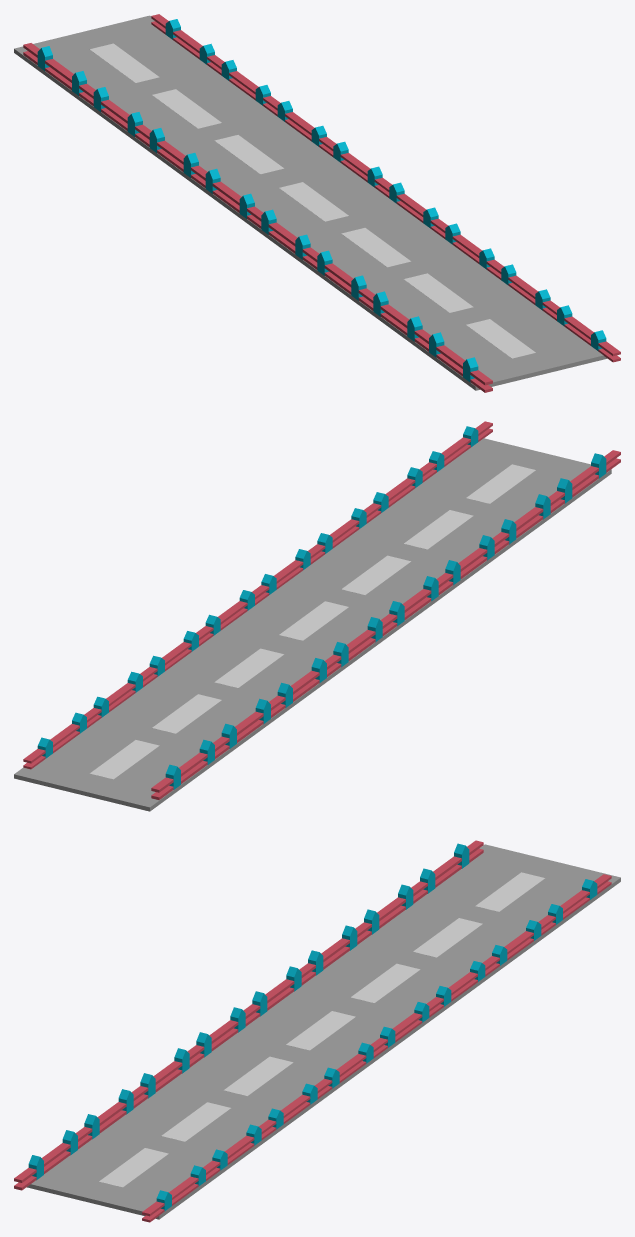
The model's file is Road.glb.
The picture shows the model from 3 angles, top to bottom: view 1: azimuth 30°, elevation 25°; view 2: azimuth 150°, elevation 25°; view 3: azimuth 330°, elevation 25°; orthographic projection.
Parts seen in each view (by area): view 1: Mesh_Mesh_head_geo.001_lambert2SG.001; view 2: Mesh_Mesh_head_geo.001_lambert2SG.001; view 3: Mesh_Mesh_head_geo.001_lambert2SG.001.
Boxes of the visible parts, left/top/right/bottom form: Mesh_Mesh_head_geo.001_lambert2SG.001: left=14, top=14, right=620, bottom=392; Mesh_Mesh_head_geo.001_lambert2SG.001: left=14, top=421, right=620, bottom=811; Mesh_Mesh_head_geo.001_lambert2SG.001: left=14, top=840, right=620, bottom=1222.
Bounding box in the file's own units: 34 × 6 × 204.
